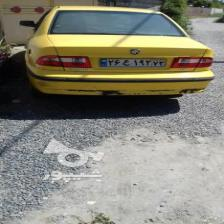plate: (100, 56, 164, 65)
